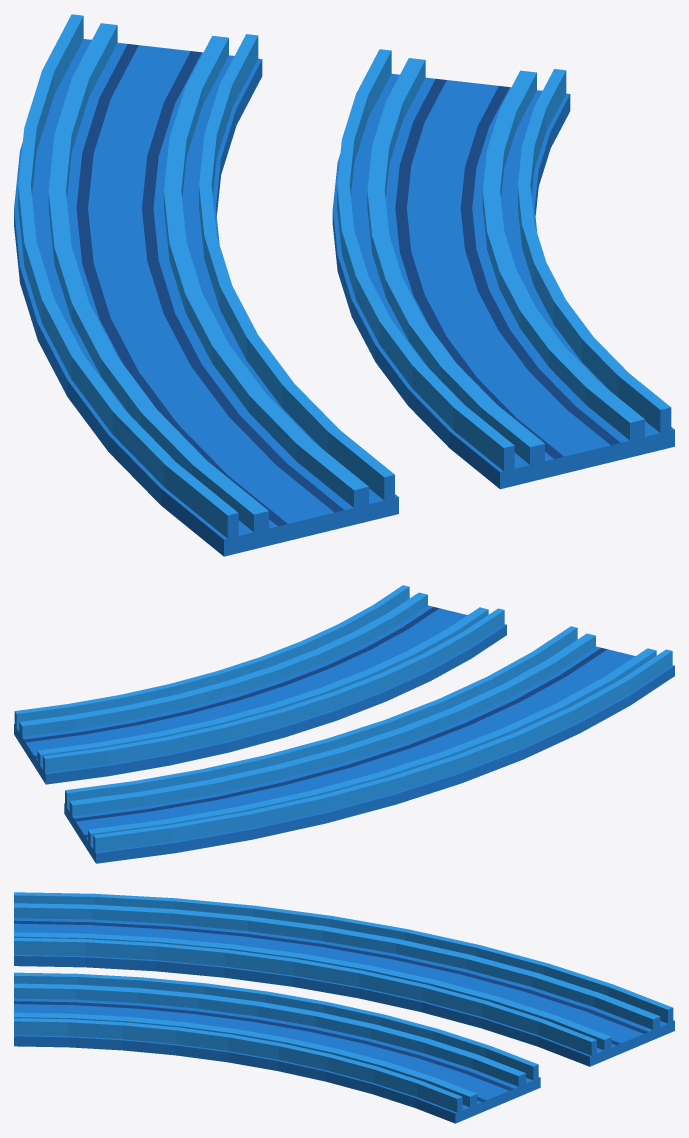
File: Track_Double_Curve_Right.fbx
The picture shows the model from 3 angles, top to bottom: view 1: azimuth 30°, elevation 25°; view 2: azimuth 150°, elevation 25°; view 3: azimuth 270°, elevation 25°; orthographic projection. The views are drawn at different scales.
Parts seen in each view (by area): view 1: Bed.001, Bed; view 2: Bed.001, Bed; view 3: Bed.001, Bed.
Boxes of the visible parts, left/top/right/bottom form: Bed.001: left=14, top=14, right=398, bottom=556; Bed: left=332, top=49, right=674, bottom=489; Bed.001: left=64, top=626, right=674, bottom=863; Bed: left=14, top=585, right=506, bottom=784; Bed.001: left=14, top=892, right=674, bottom=1066; Bed: left=14, top=972, right=540, bottom=1123.
Size of the model in its own units: 433 by 23.21 by 579.
